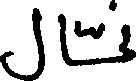X: (0, 3, 42, 80), (111, 0, 135, 67), (76, 16, 103, 70), (60, 9, 64, 65)
